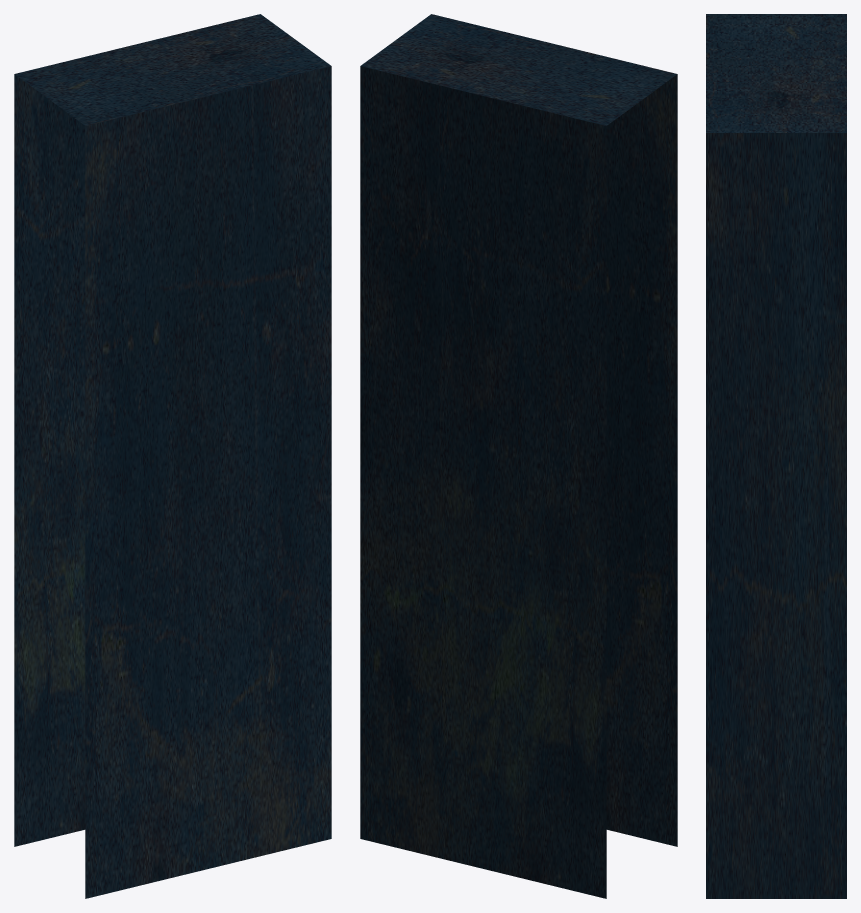
The model's file is wall_one_side_closed.glb.
3 views of the same model, side by side, from view 1: azimuth 30°, elevation 25°; view 2: azimuth 150°, elevation 25°; view 3: azimuth 270°, elevation 25° (orthographic).
Parts seen in each view (by area): view 1: wand2; view 2: wand2; view 3: wand2.
Part boxes in pixels (left/top/right/bottom): wand2: left=14, top=14, right=331, bottom=898; wand2: left=360, top=14, right=677, bottom=898; wand2: left=706, top=14, right=846, bottom=898.
Size of the model in its own units: 1 by 3 by 0.5.
Materials: 1 (1 with a texture image).
